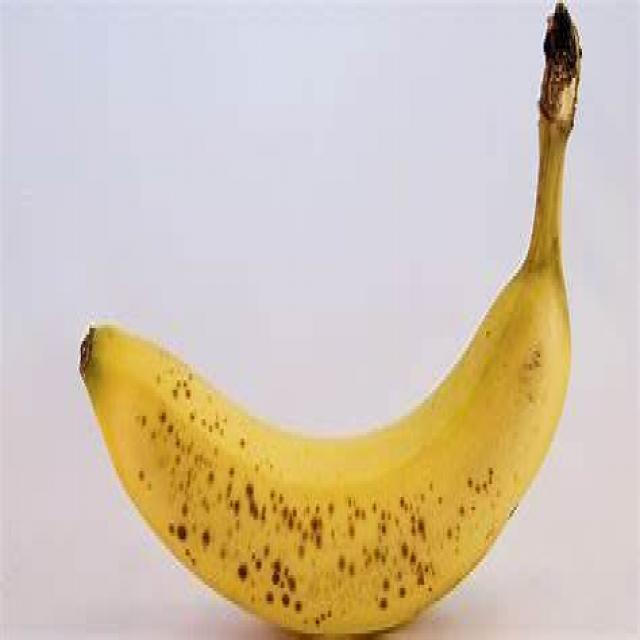Banana: (77, 8, 582, 640)
